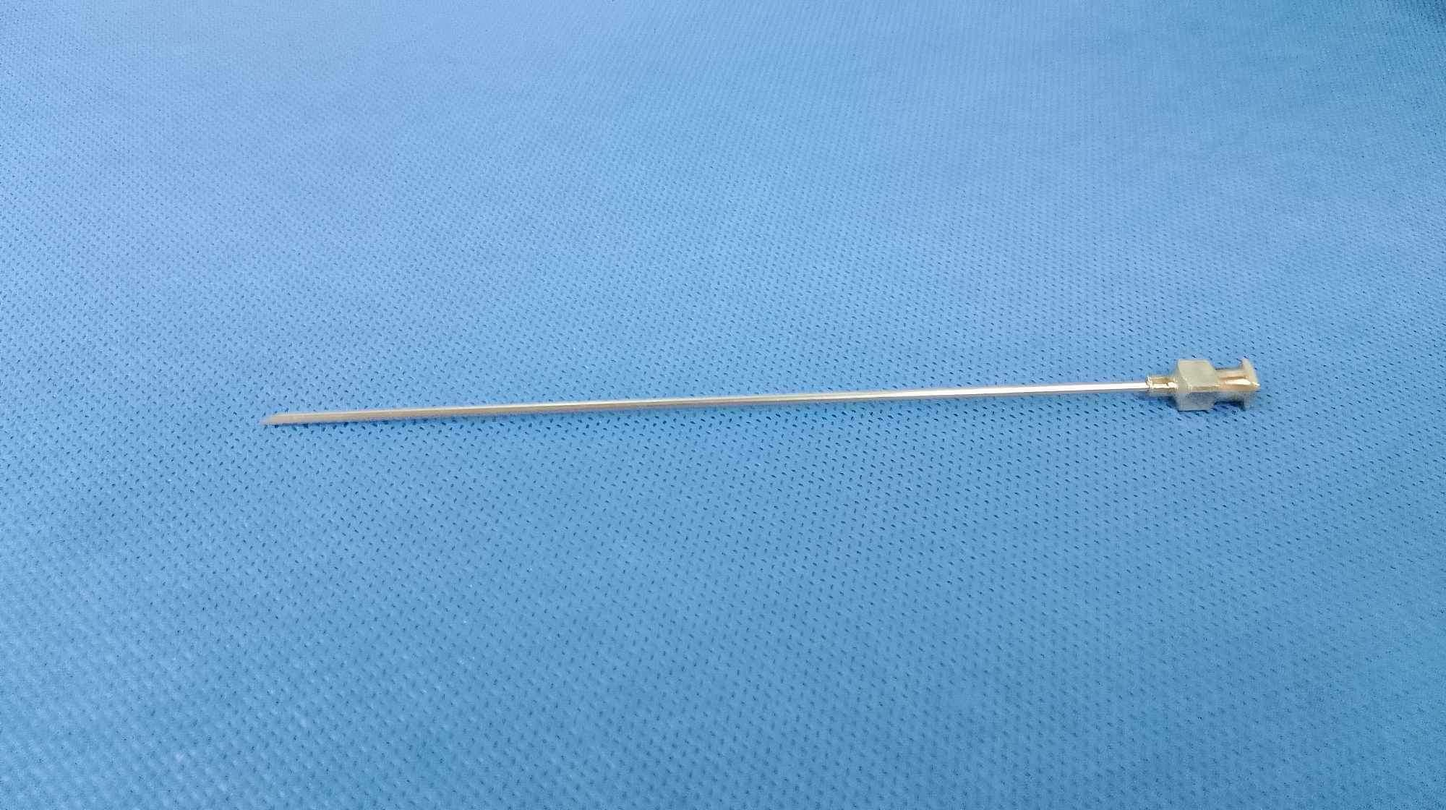Pathological: (5, 4, 1439, 805)
Sharps: (260, 354, 1262, 428)
